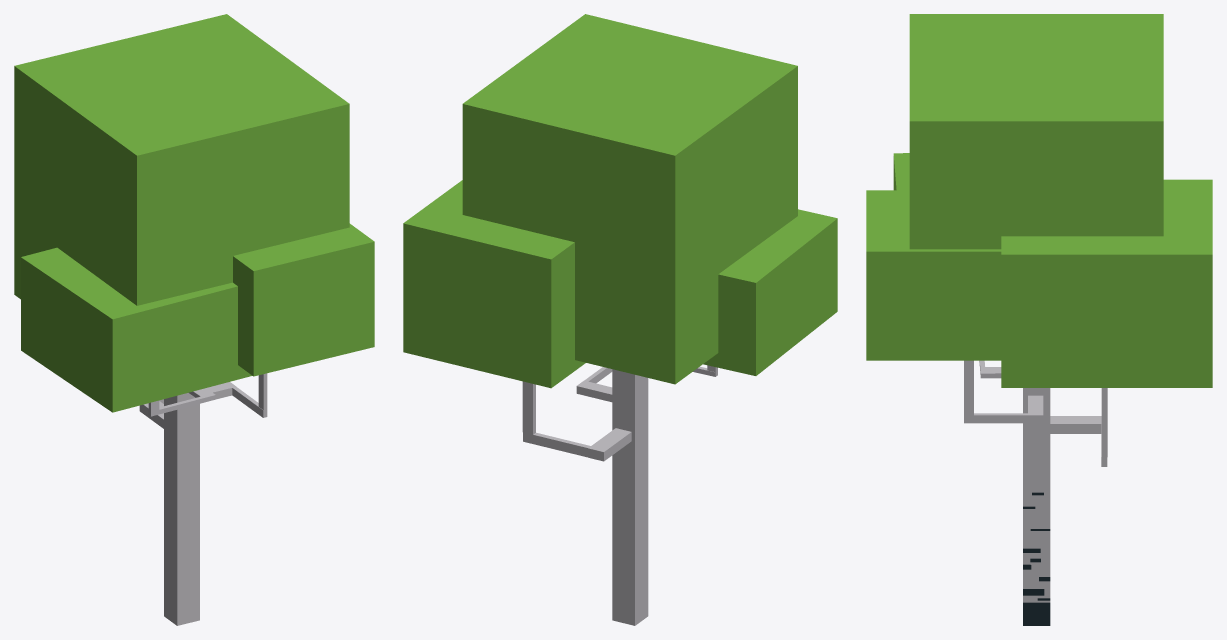
File: Birch.glb
3 renders of one model, left to right at view 1: azimuth 30°, elevation 25°; view 2: azimuth 150°, elevation 25°; view 3: azimuth 270°, elevation 25°, orthographic. The views are drawn at different scales.
Parts seen in each view (by area): view 1: Bushel, Trunk; view 2: Bushel, Trunk; view 3: Bushel, Trunk.
Boxes of the visible parts, x1,y1,x2,y2 form: Bushel: (14,14,374,412); Trunk: (139,373,267,625); Bushel: (403,14,837,388); Trunk: (522,365,717,625); Bushel: (866,14,1212,387); Trunk: (964,360,1107,625).
Size of the model in its own units: 3.89 by 6.94 by 3.94.
